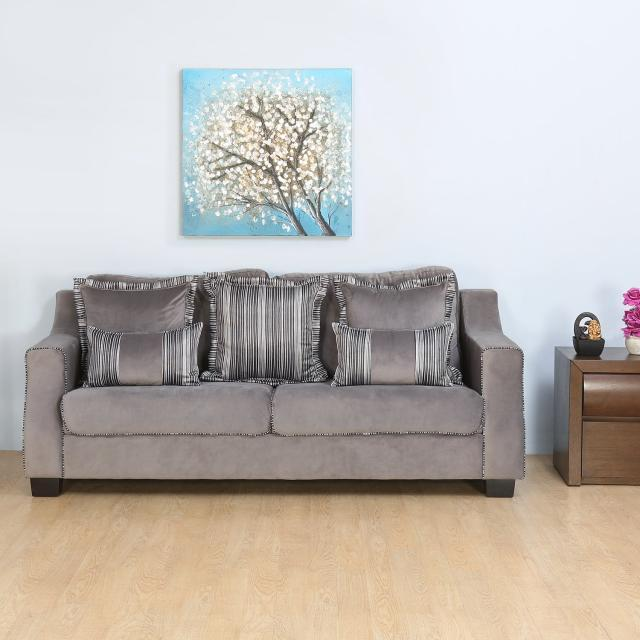sofa: (21, 264, 526, 499)
